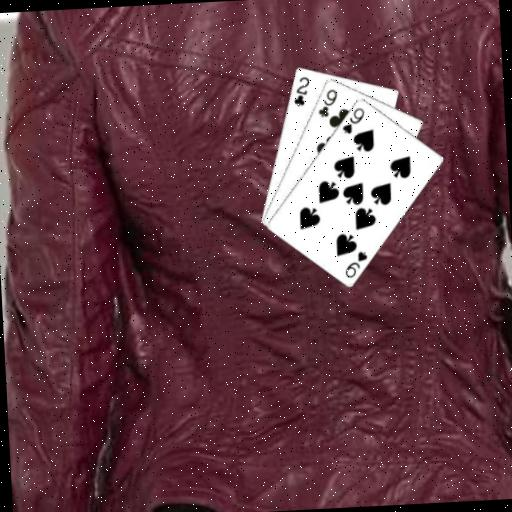2C: (290, 73, 313, 108)
9C: (314, 85, 340, 119)
9S: (341, 248, 370, 280), (338, 105, 367, 136)
